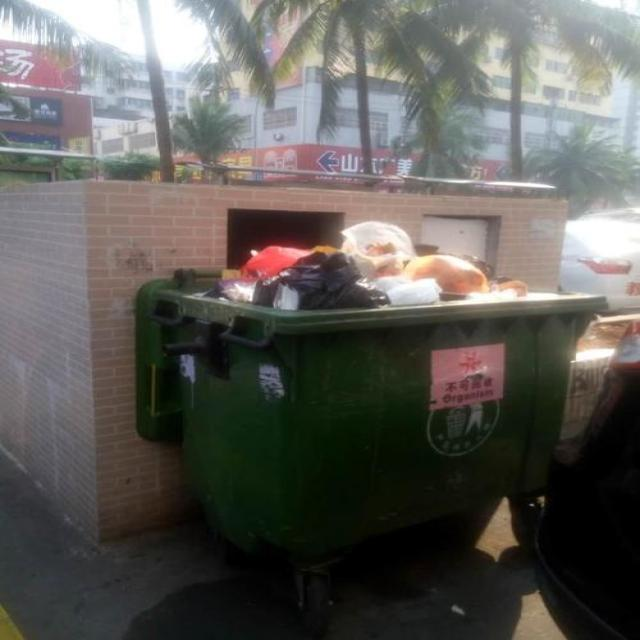overflow: (135, 220, 610, 544)
